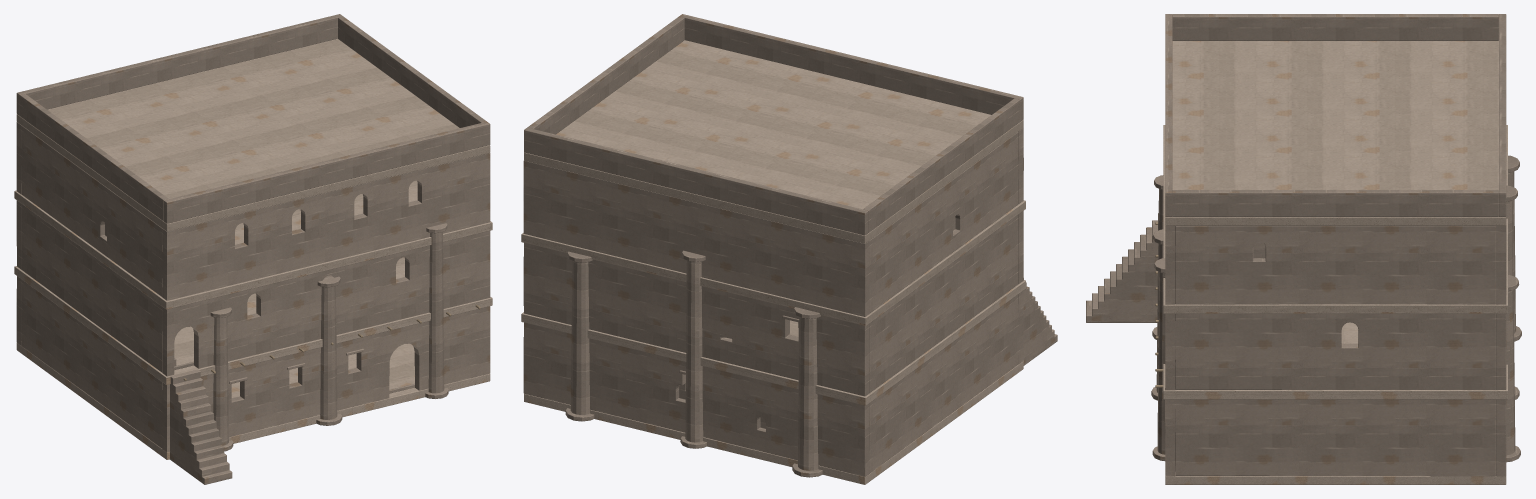
File: block_13.glb
The picture shows the model from 3 angles, left to right: view 1: azimuth 30°, elevation 25°; view 2: azimuth 150°, elevation 25°; view 3: azimuth 270°, elevation 25°; orthographic projection. The views are drawn at different scales.
Parts seen in each view (by area): view 1: block; view 2: block; view 3: block.
Part boxes in pixels (x1=…): block: x1=14, y1=14, x2=492, y2=484; block: x1=521, y1=14, x2=1057, y2=484; block: x1=1086, y1=14, x2=1521, y2=484.
Size of the model in its own units: 17.51 by 13.22 by 17.86.
Materials: 3 (3 with a texture image).
